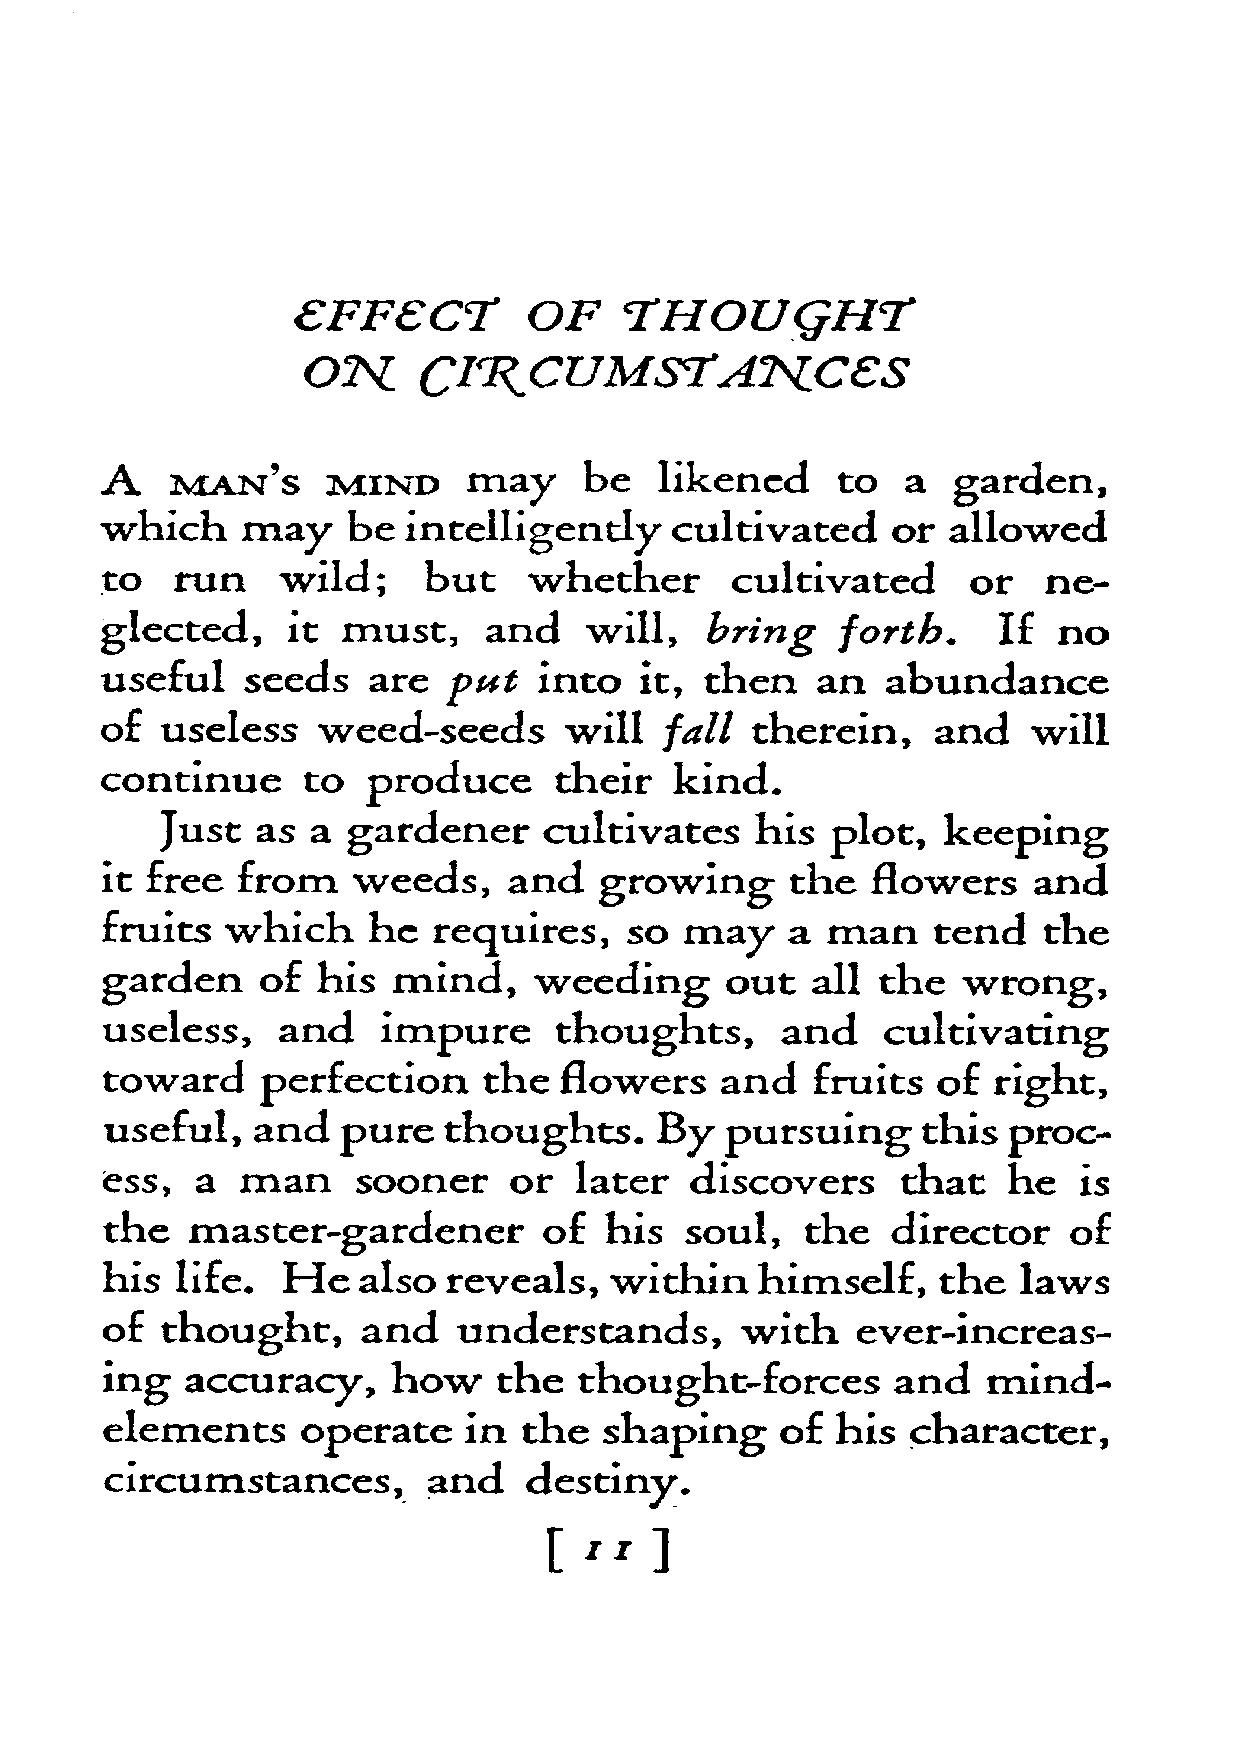chapter: (291, 294, 917, 400)
content: (94, 458, 1113, 1511)
content_pagenumber: (581, 1533, 633, 1566)
